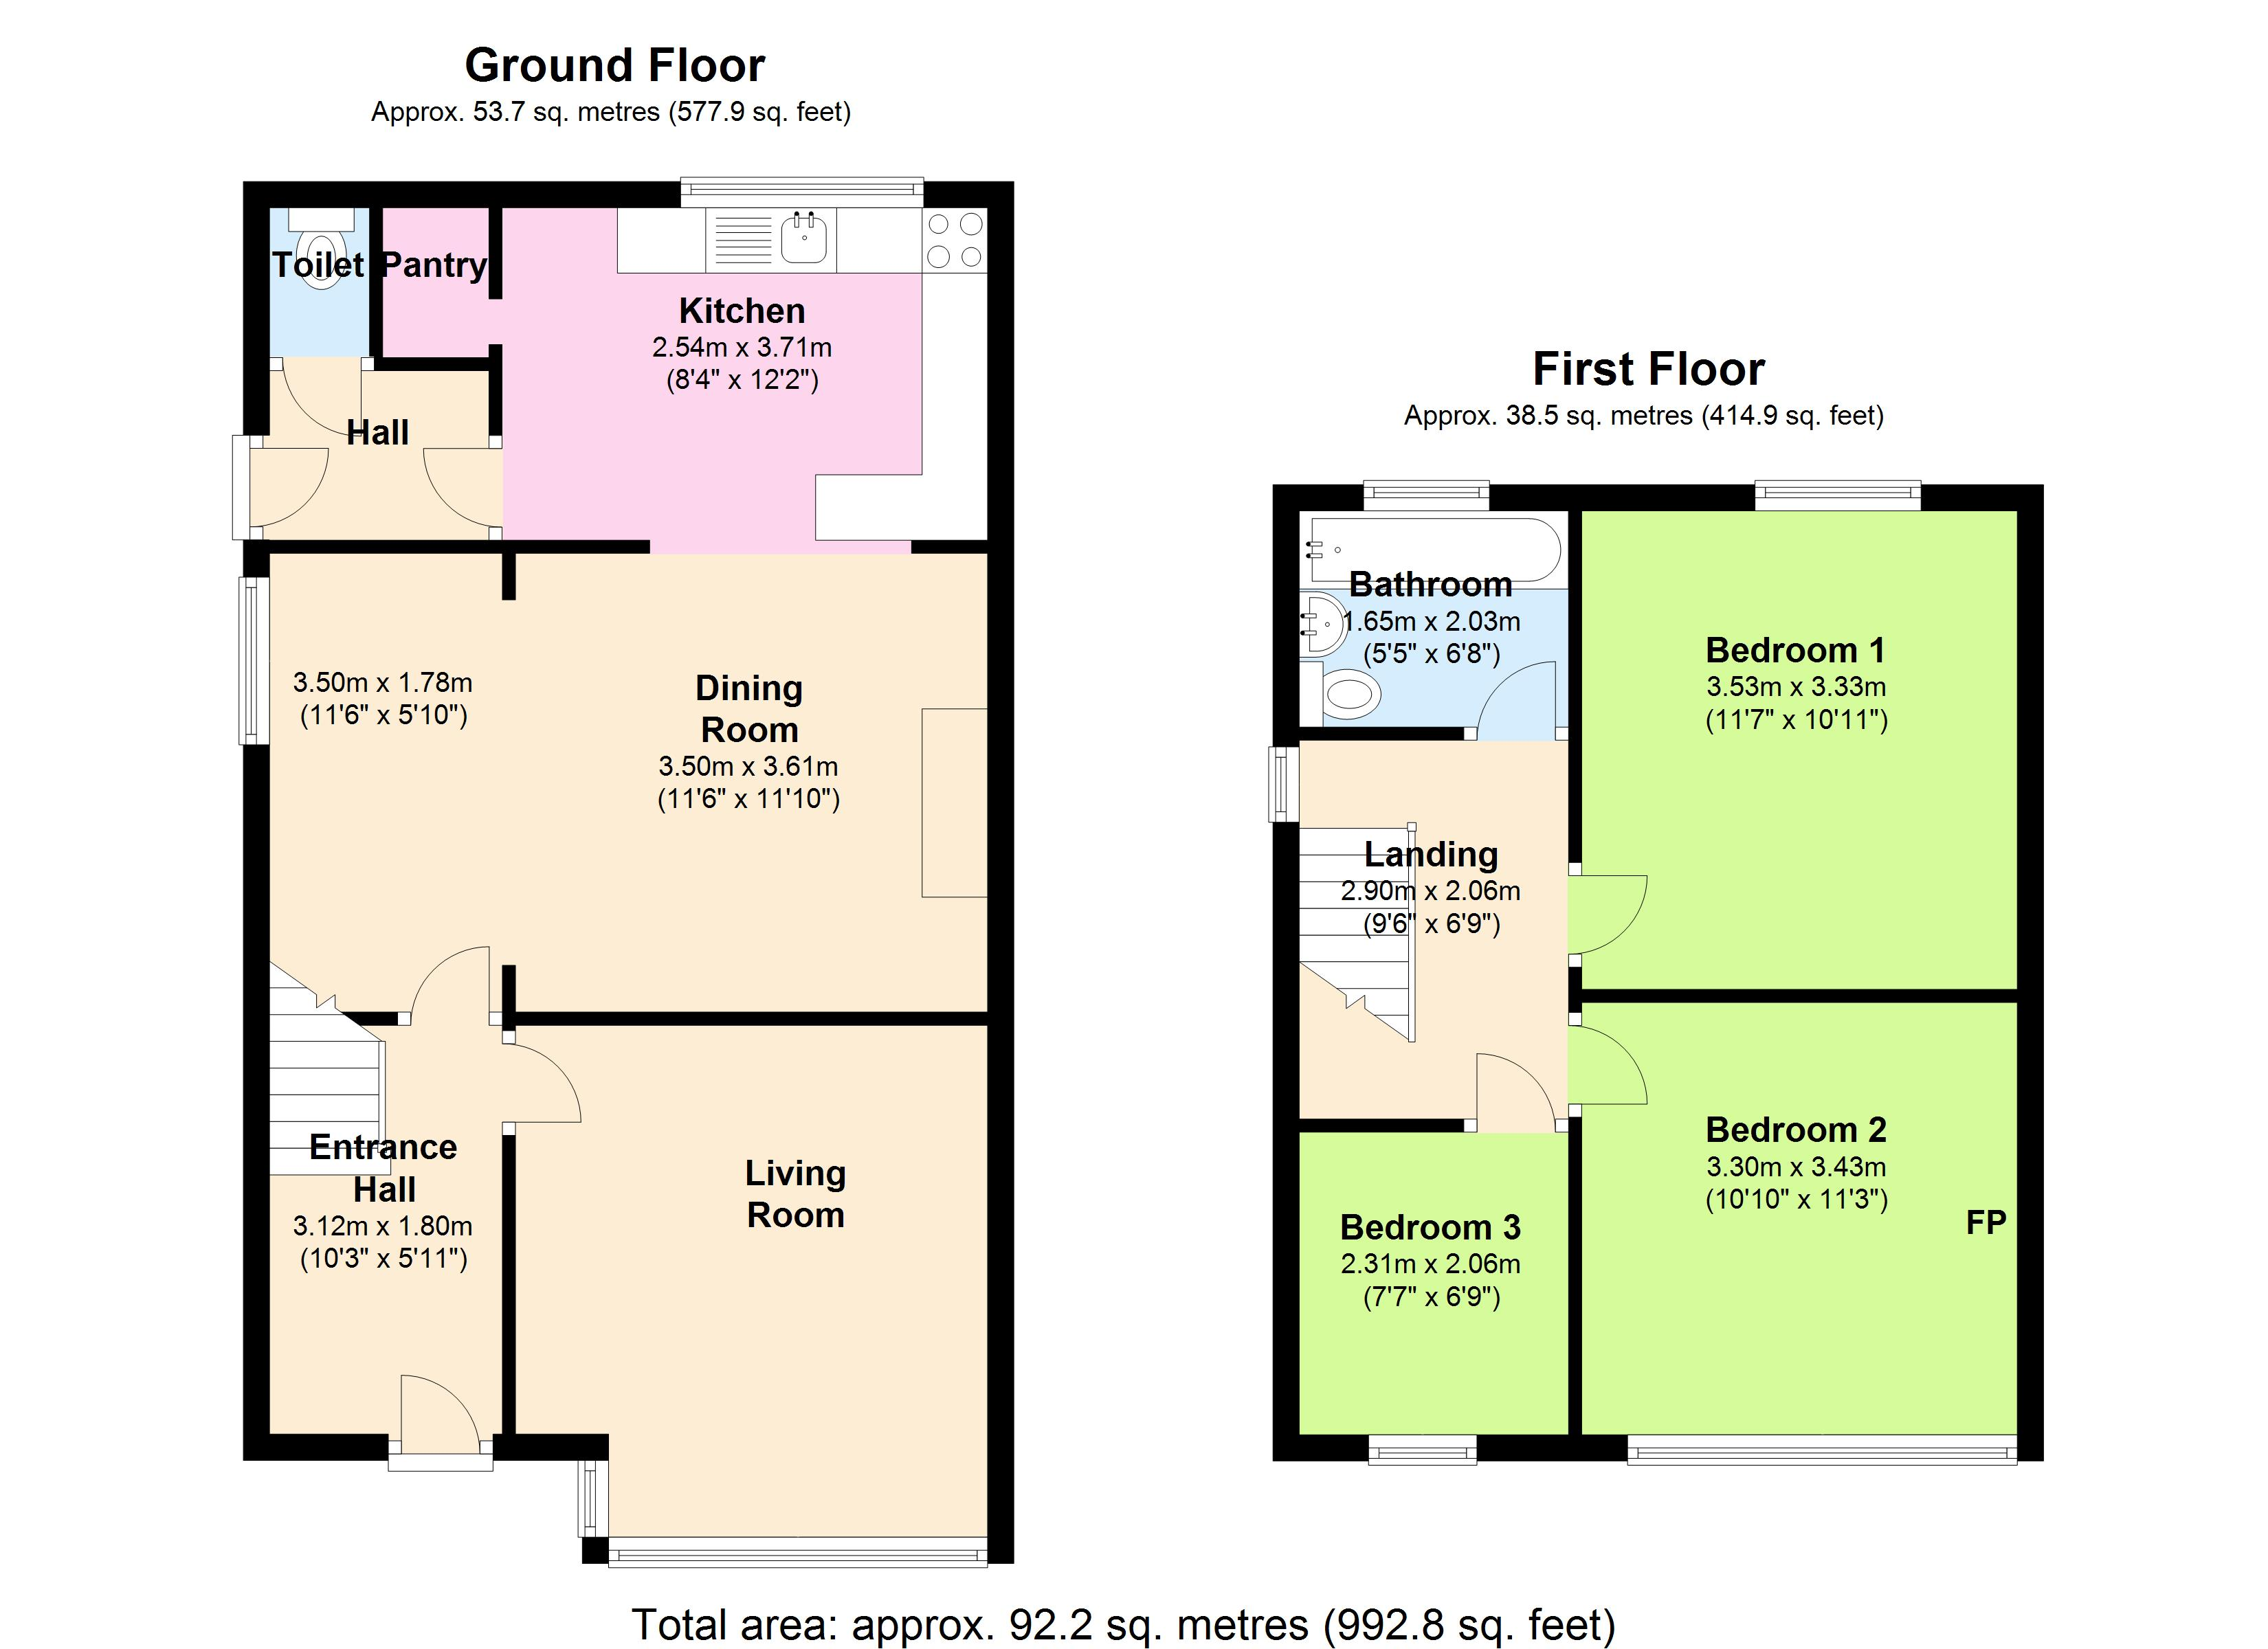window: (1624, 1429, 2021, 1475), (604, 1535, 993, 1573), (674, 172, 928, 213), (1750, 473, 1926, 517), (236, 574, 273, 748), (1359, 473, 1493, 517), (1365, 1429, 1481, 1475), (1261, 743, 1305, 825), (572, 1457, 613, 1540)
